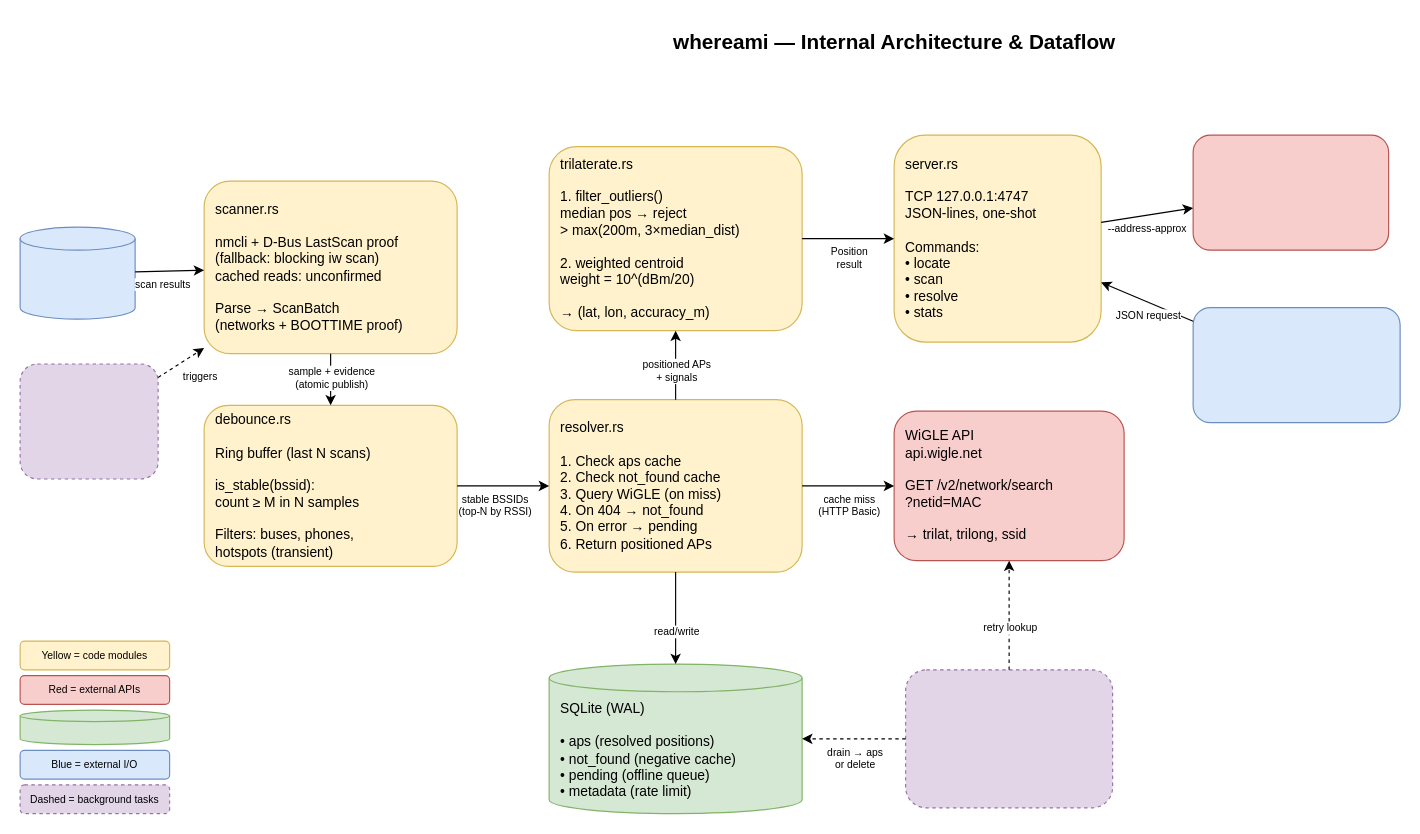
The diagram is 1420 pixels wide and 834 high, and some of its shapes have lost their labels. Each missing label, with the centre of its shape:
Any TCP client • whereami-client (Rust) • echo | socat • Python, Go, etc.: (1296,364)
Green = storage: (94,727)
main.rs scan loop fast: every 10s slow: every 60s: (88,421)
OSM Nominatim (opt-in) reverse geocode lat,lon → address: (1290,192)
pending.rs Background drain every 300s Retry failed lookups max 20 attempts: (1008,738)
Wi-Fi Radio (kernel): (77,272)
